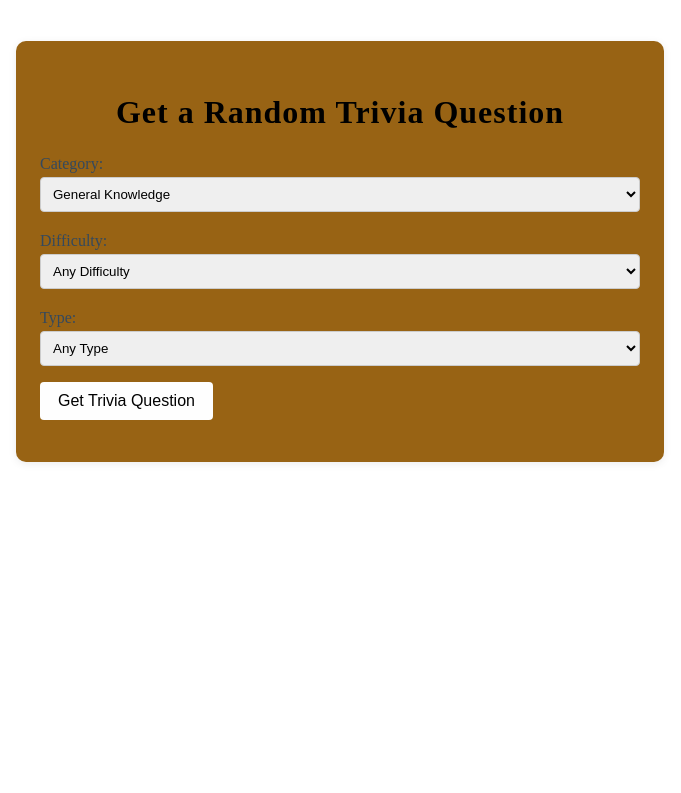
Test: Trivia Page › shows result popup after answering a question
Step 1. Click the button "Get Trivia Question" → click(126, 401), box x1=40 y1=382 x2=213 y2=420
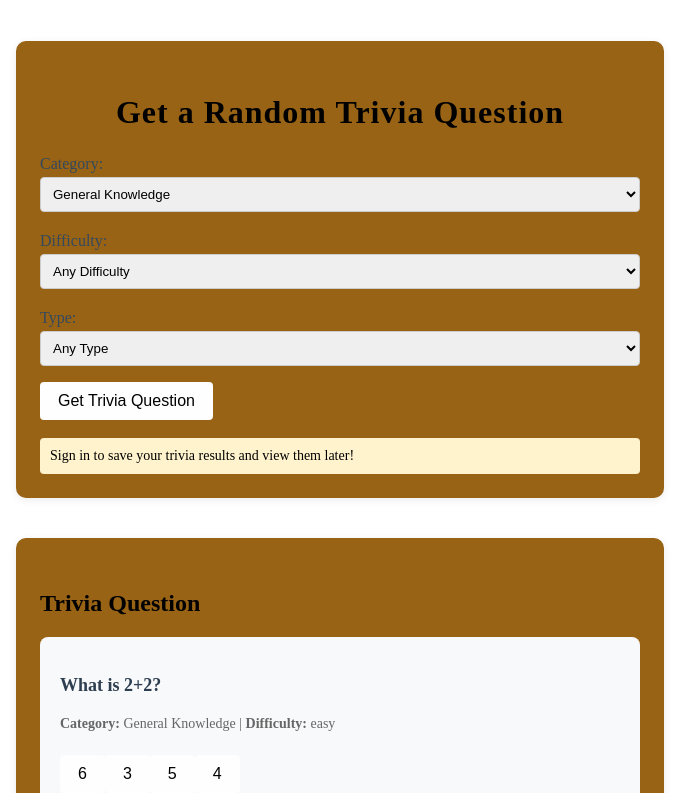
Check: the text "What is 2+2?" is shown, box x1=60 y1=675 x2=161 y2=695
# Click an answer button
Step 2. Click the button "4" → click(217, 774), box x1=195 y1=755 x2=240 y2=792
(page scrolled)
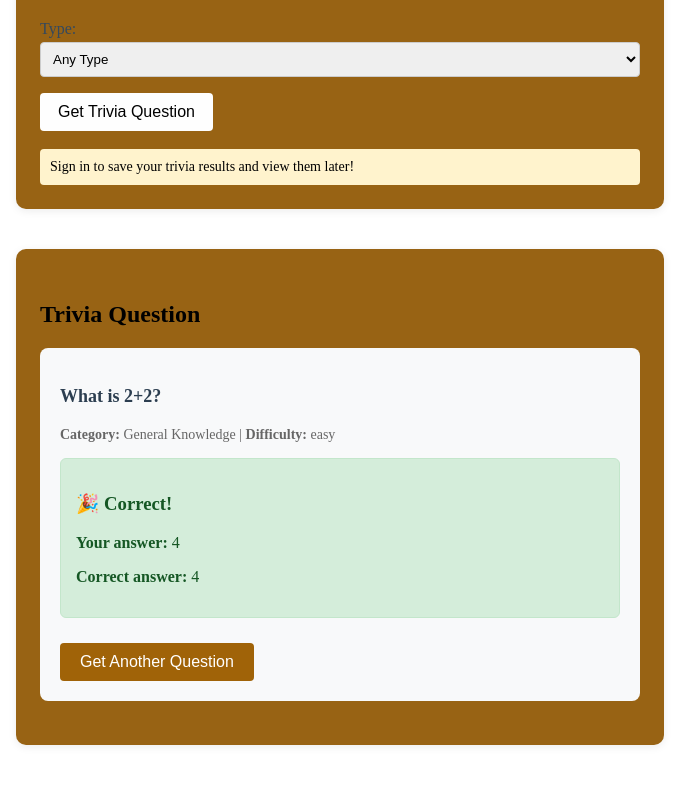
Check: the heading "🎉 Correct!" is shown, box x1=76 y1=493 x2=172 y2=514
Check: the text "Your answer:" is shown, box x1=76 y1=534 x2=168 y2=551
Check: the text "Correct answer:" is shown, box x1=76 y1=568 x2=187 y2=585
